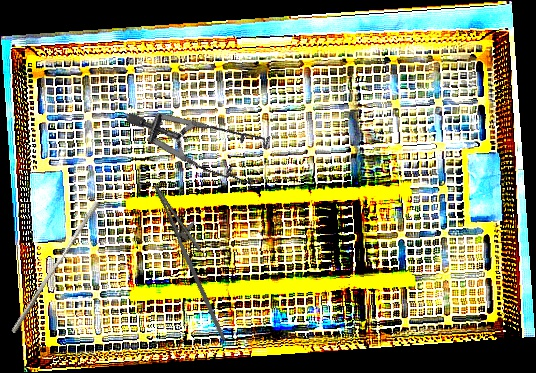Needle Holder: (135, 177, 255, 342)
Pusher: (10, 198, 101, 337)
Speculum: (123, 53, 289, 224)
